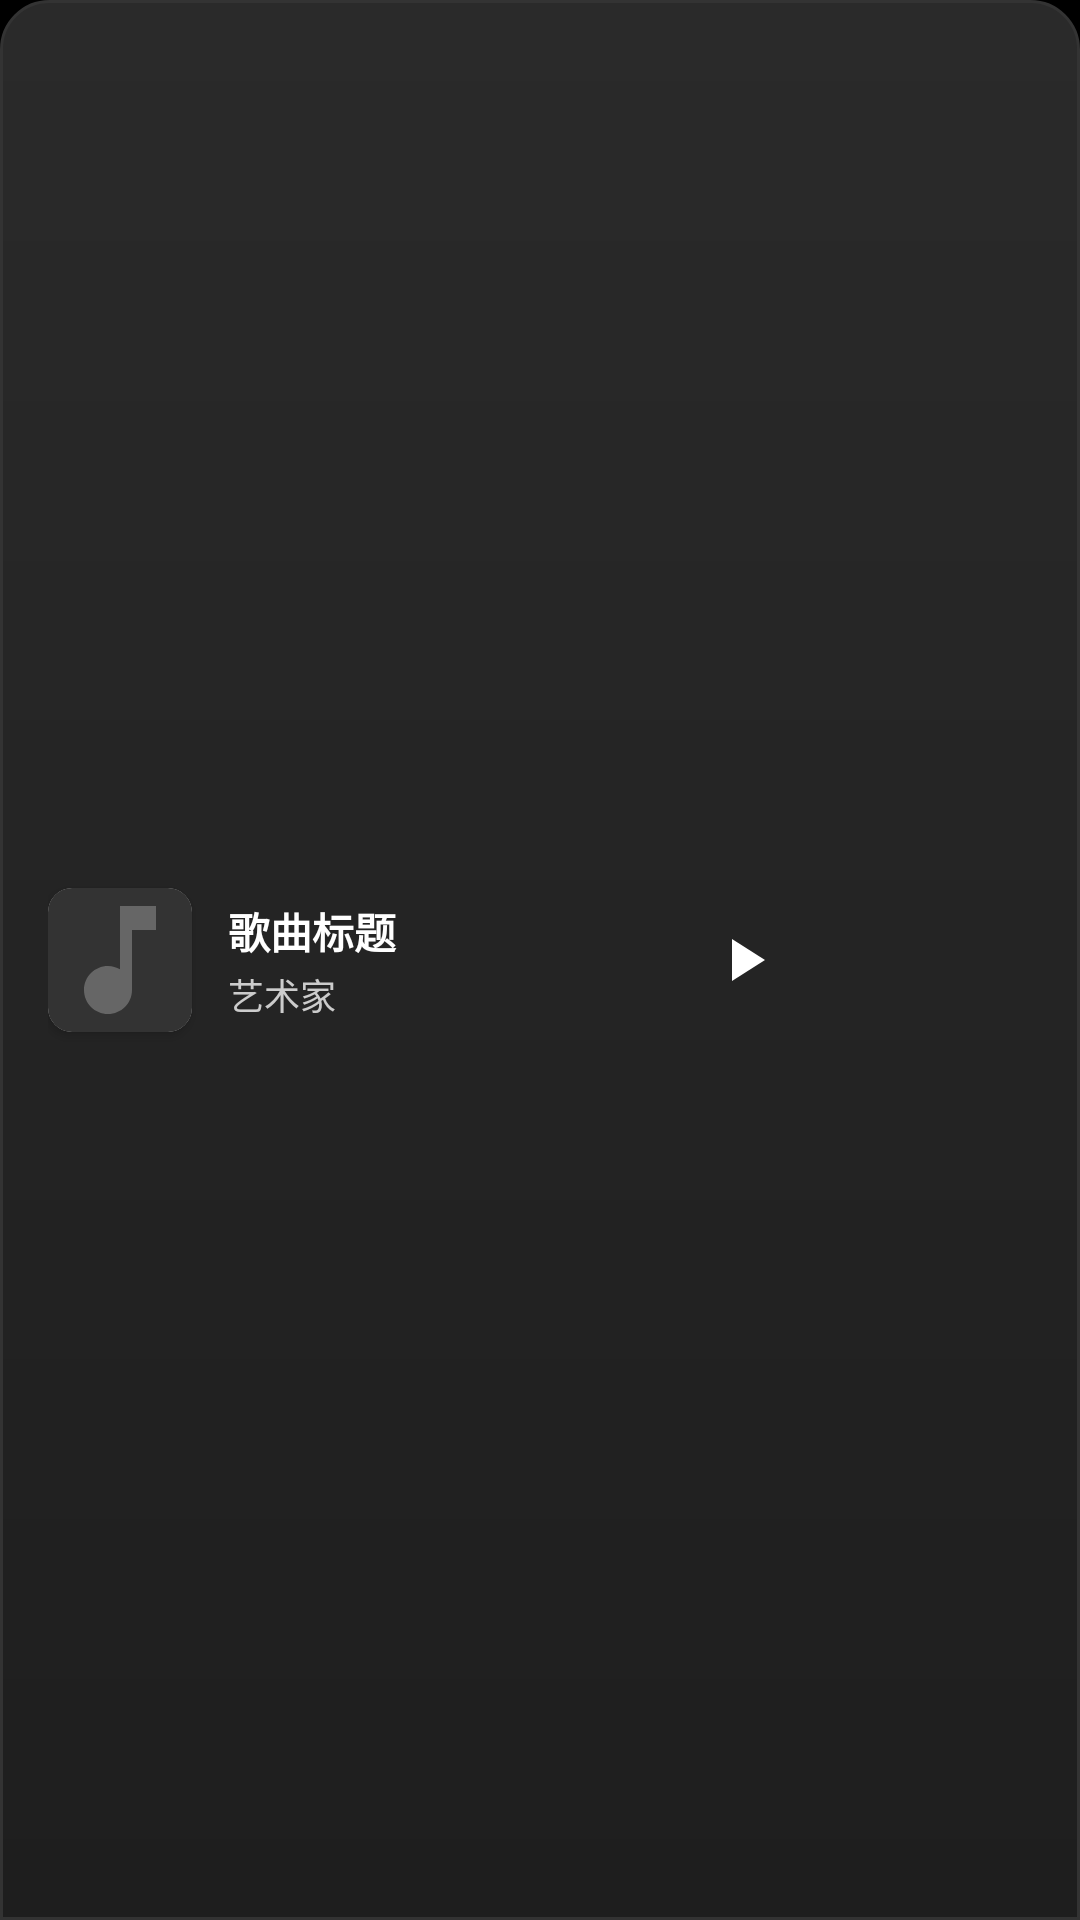

Screen size 1080x1920. Icon name, then its center in pixels as [x,y]:
播放/暂停: [748,960]
